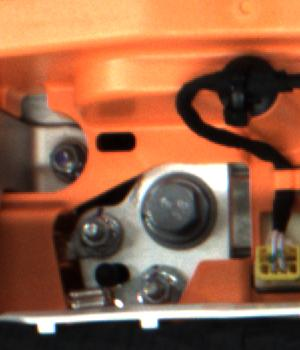nut_b: (140, 164, 220, 248)
